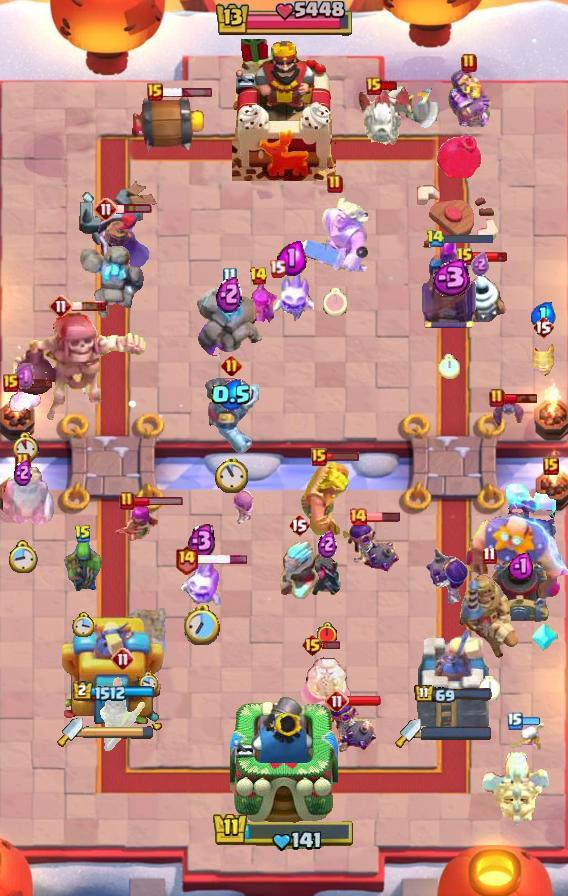archer: (112, 506, 166, 550)
archer-evolution: (237, 278, 279, 326)
axe: (384, 73, 440, 131)
bar: (442, 232, 494, 245), (196, 554, 249, 565), (161, 87, 213, 98), (133, 496, 184, 507), (17, 377, 54, 389), (116, 203, 153, 215), (346, 695, 382, 707), (365, 511, 401, 523), (503, 392, 539, 404), (71, 300, 107, 312), (472, 251, 508, 263), (324, 451, 360, 462), (380, 80, 399, 92), (521, 716, 540, 727), (322, 640, 341, 650)
bar-level: (174, 544, 199, 575), (325, 689, 349, 713), (111, 647, 135, 671), (49, 294, 73, 318), (94, 197, 118, 221), (301, 633, 324, 657), (288, 513, 310, 537), (532, 315, 554, 339), (221, 355, 242, 376), (348, 507, 368, 527), (249, 266, 268, 286), (426, 229, 445, 248), (74, 524, 92, 544), (456, 247, 474, 267), (269, 259, 286, 278), (119, 491, 135, 511), (15, 452, 31, 472), (489, 388, 505, 408), (327, 174, 343, 194), (461, 53, 477, 73), (507, 712, 523, 730), (543, 457, 559, 475), (311, 448, 327, 466), (3, 374, 19, 392), (147, 83, 163, 101), (366, 77, 382, 95), (482, 546, 497, 565), (222, 267, 237, 286)
barbarian-barrel: (128, 93, 208, 153)
bat: (491, 401, 525, 429)
bomb: (436, 133, 482, 178)
bomber-evolution: (345, 519, 401, 575), (424, 540, 468, 606), (328, 699, 378, 753)
clock: (184, 605, 220, 645), (215, 457, 248, 493), (8, 540, 38, 573), (10, 432, 40, 463), (323, 288, 347, 316), (72, 612, 95, 637), (438, 354, 460, 379), (316, 622, 338, 646), (479, 676, 500, 701), (138, 671, 158, 695)
dagger-duchess-tower: (62, 611, 166, 731), (414, 623, 492, 731)
dagger-duchess-tower-bar: (421, 726, 493, 740), (83, 725, 155, 739)
dirt: (126, 606, 170, 652)
elixir: (427, 259, 472, 296), (211, 379, 252, 411), (187, 522, 217, 559), (277, 239, 307, 276), (216, 275, 242, 313), (508, 551, 533, 580), (14, 362, 37, 391), (531, 302, 556, 328), (318, 529, 337, 558), (14, 458, 32, 486), (471, 252, 489, 276)
golemite: (76, 243, 150, 325), (194, 288, 264, 356)
guard: (98, 675, 148, 751)
ice-spirit-evolution: (270, 268, 314, 322), (181, 558, 223, 608)
ice-spirit-evolution-symbol: (531, 621, 559, 653)
ice-wizard: (276, 539, 322, 603)
king-tower: (232, 39, 336, 181), (230, 692, 338, 826)
king-tower-bar: (212, 811, 356, 853), (213, 1, 355, 39)
knight-evolution: (447, 67, 492, 130)
lava-pup: (7, 385, 43, 417), (529, 341, 557, 377)
mega-minion: (203, 374, 259, 454)
mini-pekka: (308, 546, 346, 600)
mortar: (489, 558, 551, 626)
royal-ghost: (0, 464, 56, 530)
skeleton: (500, 722, 548, 754)
skeleton-evolution: (230, 487, 257, 525)
spear-goblin: (63, 537, 103, 595)
tower-bar: (73, 681, 156, 702), (414, 684, 493, 705)
zappy: (453, 262, 507, 322)
